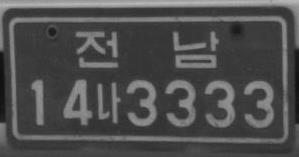1: (26, 78, 52, 127)
3: (203, 78, 237, 130), (124, 77, 158, 127), (164, 78, 197, 129), (242, 78, 275, 129)
4: (62, 78, 93, 126)
나: (95, 80, 122, 125)
전남_D: (74, 29, 220, 69)
